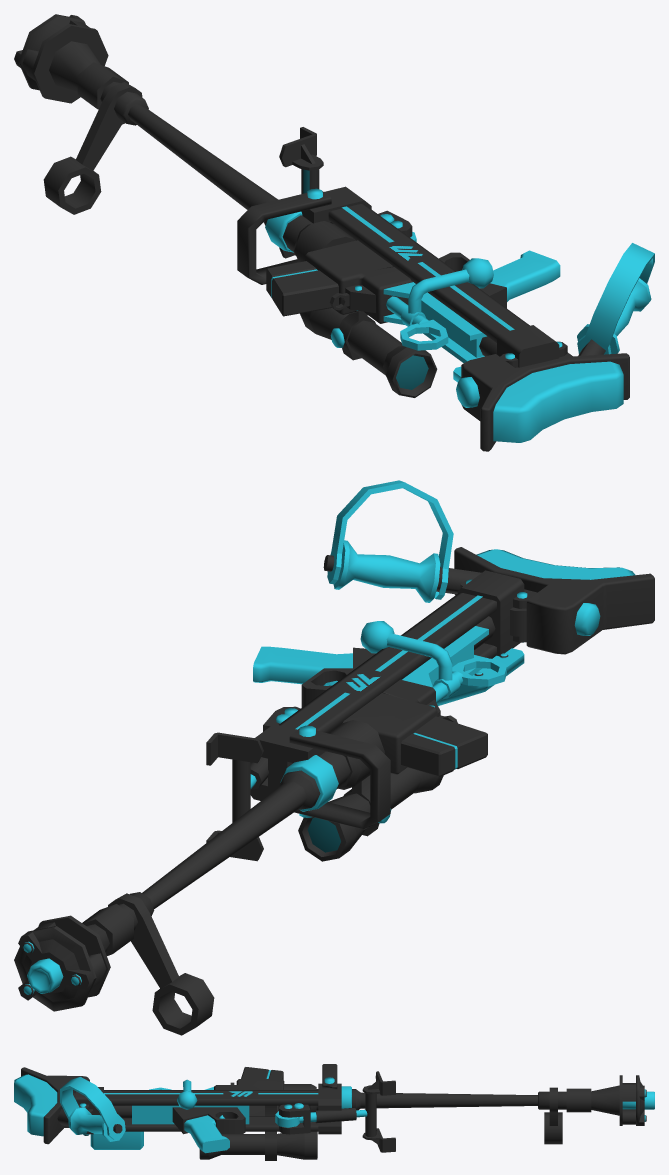
The model's file is karin.glb.
The picture shows the model from 3 angles, top to bottom: view 1: azimuth 30°, elevation 25°; view 2: azimuth 150°, elevation 25°; view 3: azimuth 270°, elevation 25°; orthographic projection. The views are drawn at different scales.
Parts seen in each view (by area): view 1: Karin_Original_Weapon; view 2: Karin_Original_Weapon; view 3: Karin_Original_Weapon.
Part boxes in pixels (bbox=[...]): Karin_Original_Weapon: bbox=[14, 14, 654, 451]; Karin_Original_Weapon: bbox=[14, 480, 654, 1035]; Karin_Original_Weapon: bbox=[14, 1064, 654, 1160].
Bounding box in the file's own units: 0.295 × 0.2074 × 1.02.
Materials: 1 (1 with a texture image).
